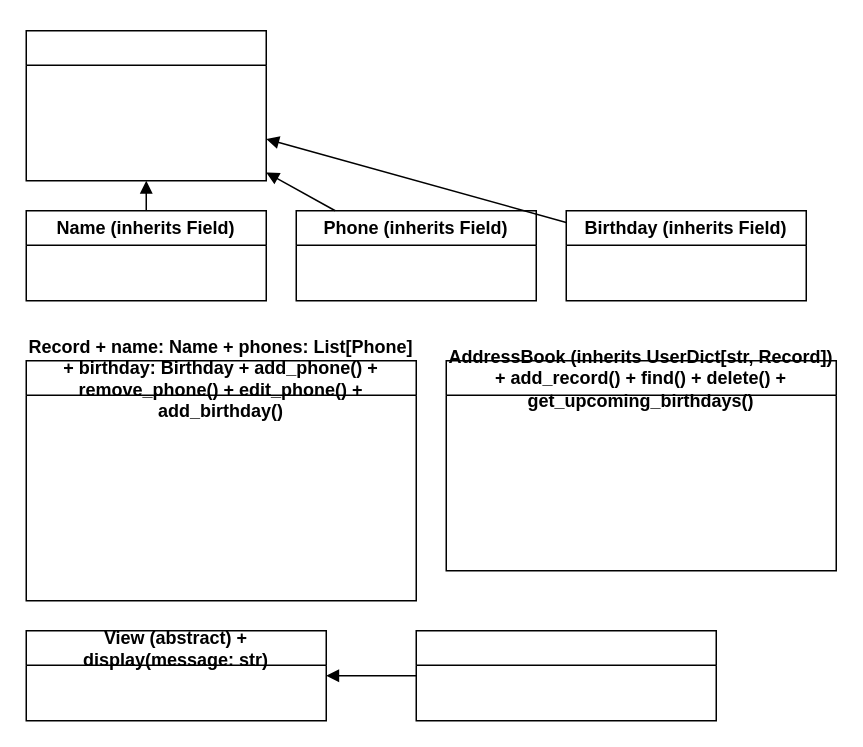
Image size: 863x747. Some labels were removed from this diagram. Here are the shapes that lost their labels. From the top down, the centre of each, then its label:
At (x=145, y=105): "Field - value: str + __str__(): str".
At (x=565, y=675): "ConsoleView (inherits View) + display()".
